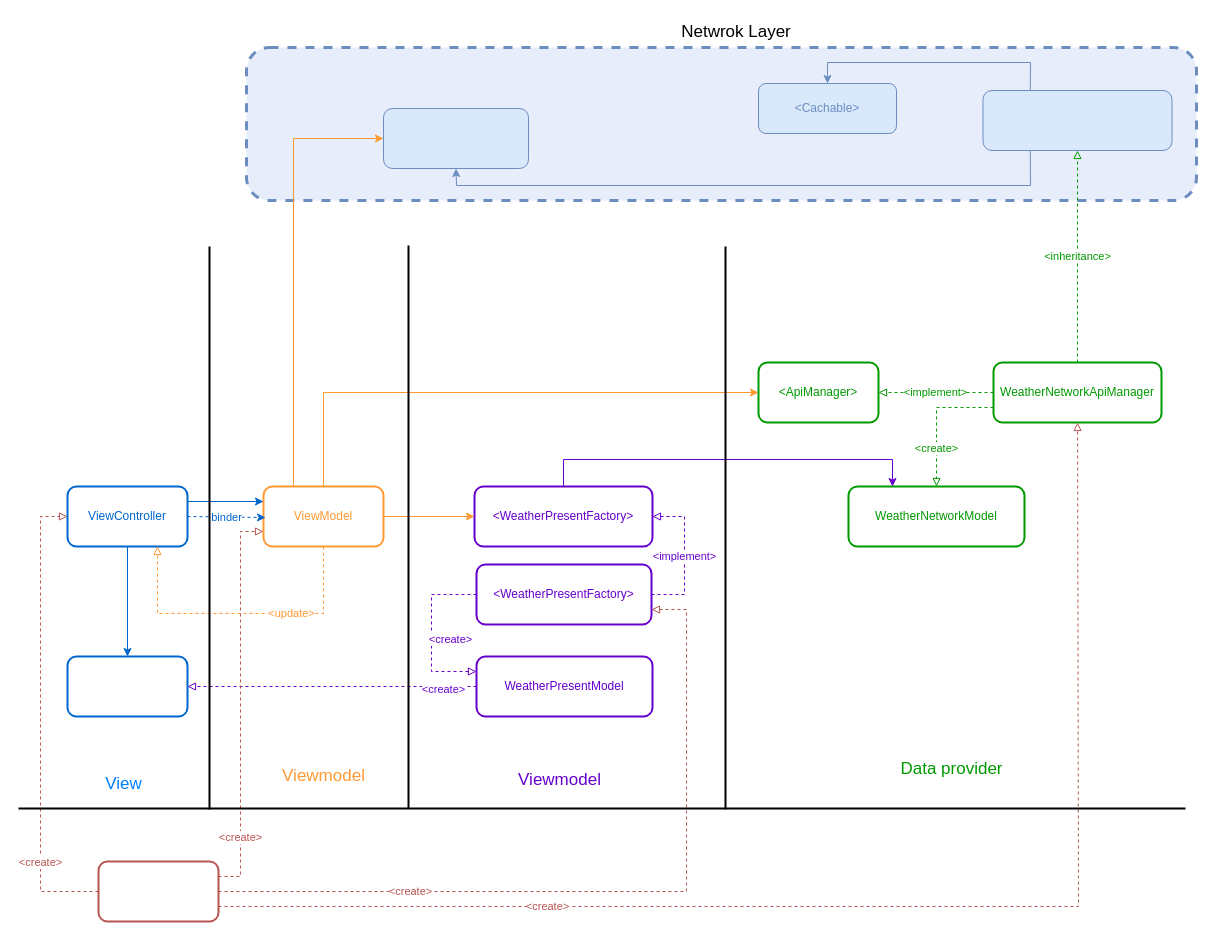
The diagram is 1215 pixels wide and 939 high, and some of its shapes have lost their labels. Each missing label, with the centre of its shape:
"ApiErrorManagement" goes at pixel 455 138.
"AppDelegate" goes at pixel 158 891.
"DayWeatherModel" goes at pixel 127 686.
"MoyaNetwork" goes at pixel 1077 120.
